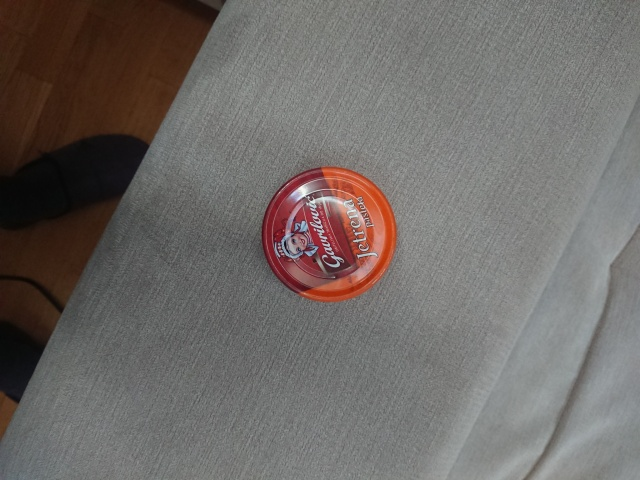Gavrilovic Pork Liver Pate 100g: (258, 164, 400, 305)
